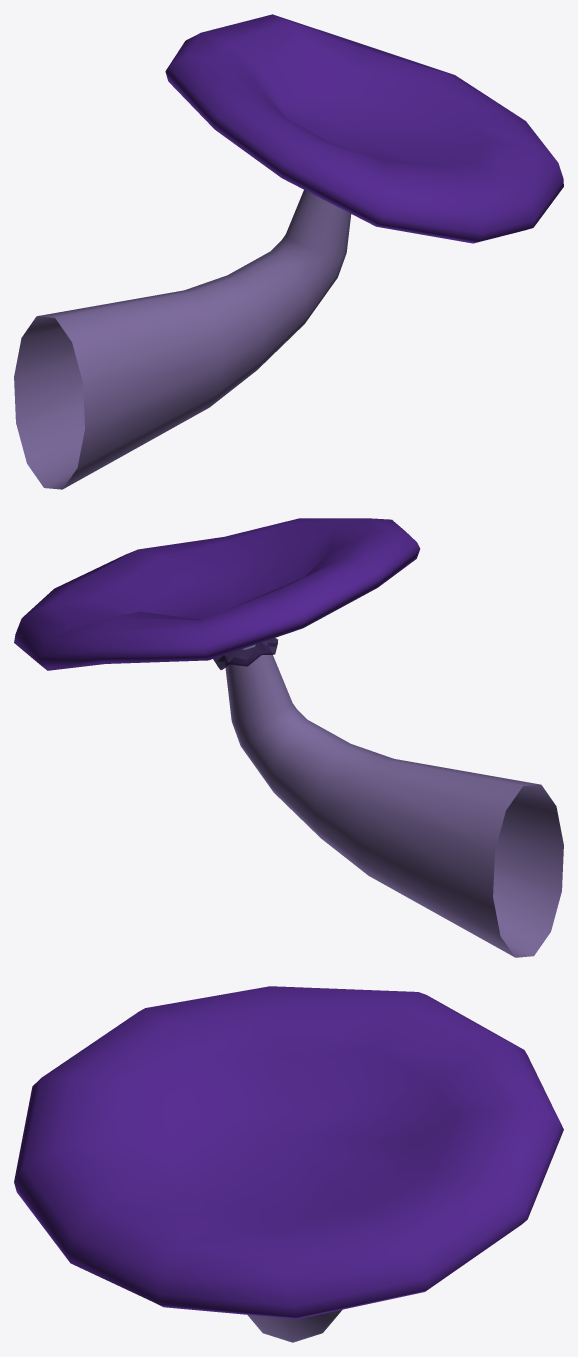
File: Mushroom_Wall_01.FBX
3 views of the same model, one above another, from view 1: azimuth 30°, elevation 25°; view 2: azimuth 150°, elevation 25°; view 3: azimuth 270°, elevation 25° (orthographic). The views are drawn at different scales.
Visible parts, largest first — view 1: Mushroom_Wall_01_merged; view 2: Mushroom_Wall_01_merged; view 3: Mushroom_Wall_01_merged.
Boxes of the visible parts, x1,y1,x2,y2 form: Mushroom_Wall_01_merged: [14, 14, 563, 489]; Mushroom_Wall_01_merged: [14, 518, 563, 957]; Mushroom_Wall_01_merged: [14, 986, 563, 1342].
Bounding box in the file's own units: 328 × 260 × 224.
